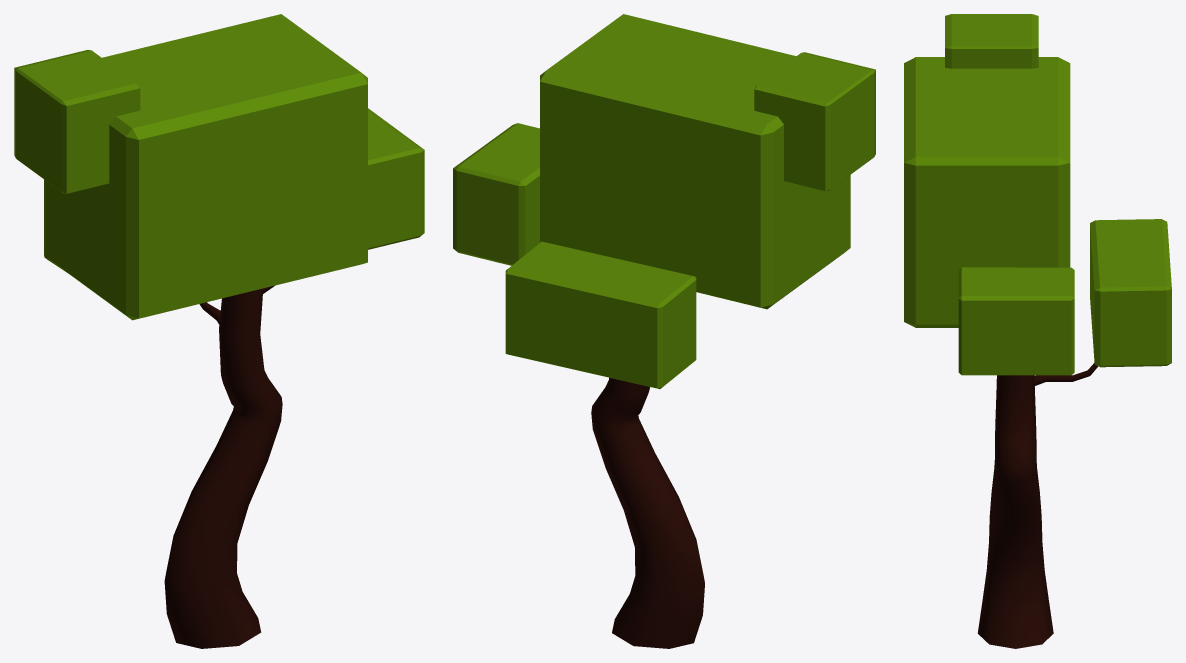
The model's file is LH_Tree03.FBX.
3 views of the same model, side by side, from view 1: azimuth 30°, elevation 25°; view 2: azimuth 150°, elevation 25°; view 3: azimuth 270°, elevation 25° (orthographic). The views are drawn at different scales.
Visible parts, largest first — view 1: T3; view 2: T3; view 3: T3.
Part boxes in pixels (x1,y1,x2,y2): T3: (14,14,424,648); T3: (453,14,875,648); T3: (904,14,1171,648).
Bounding box in the file's own units: 72.05 × 113 × 50.74.
